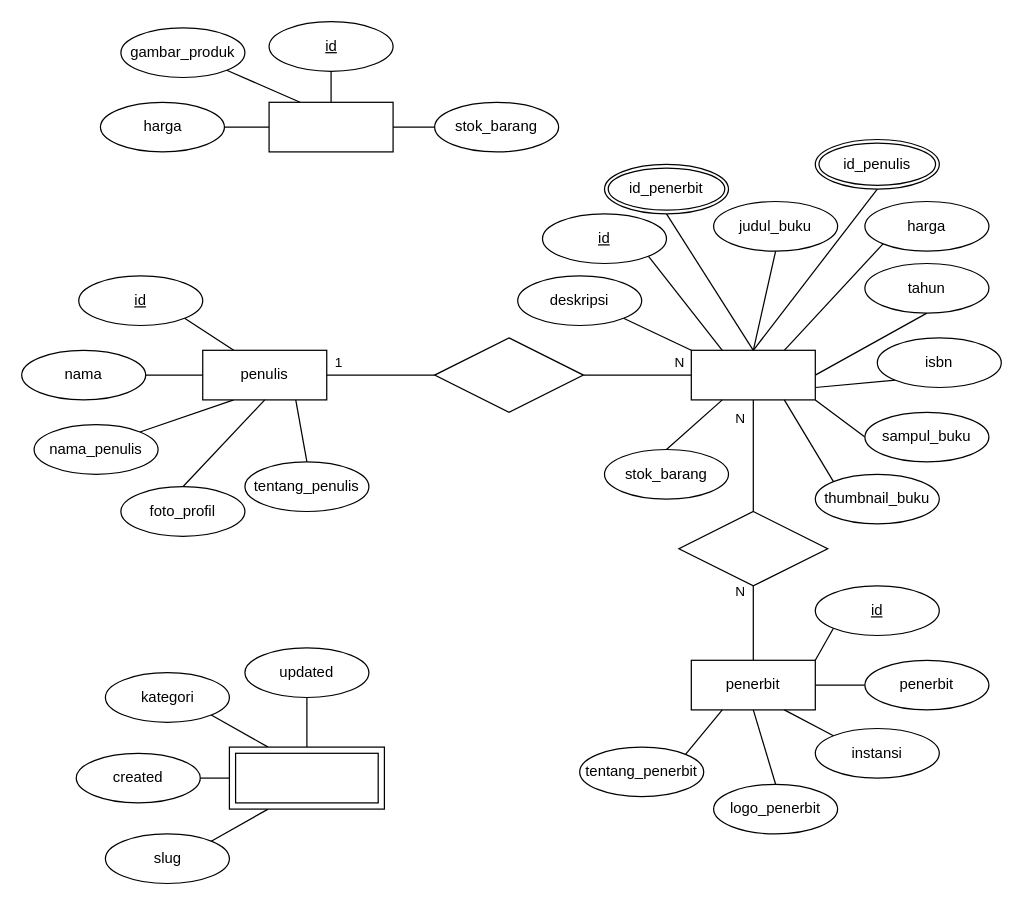
Image size: 1023x905. Some labels were removed from this diagram. Each missing label, with the centre of its shape:
"abstract_product" belongs at [306,777].
"buku" belongs at [752,374].
"diterbitkan" belongs at [753,548].
"menulis" belongs at [508,374].
"stationery" belongs at [330,126].
